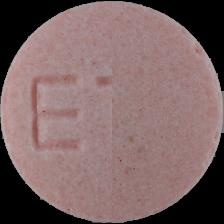13811-648: (0, 0, 224, 224)
